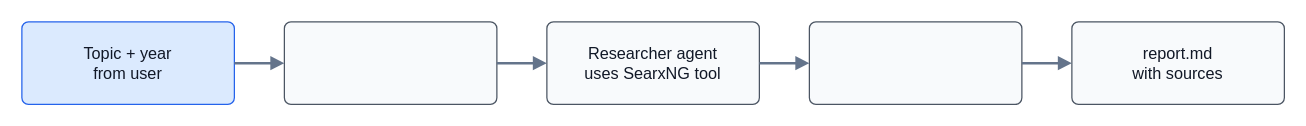
Image size: 1306x126. Some labels were removed from this diagram. Each missing label, with the box of its shape:
CrewAI loads agents.yaml/tasks.yaml: (283, 21, 497, 104)
Reporting analyst uses findings: (808, 21, 1022, 104)
